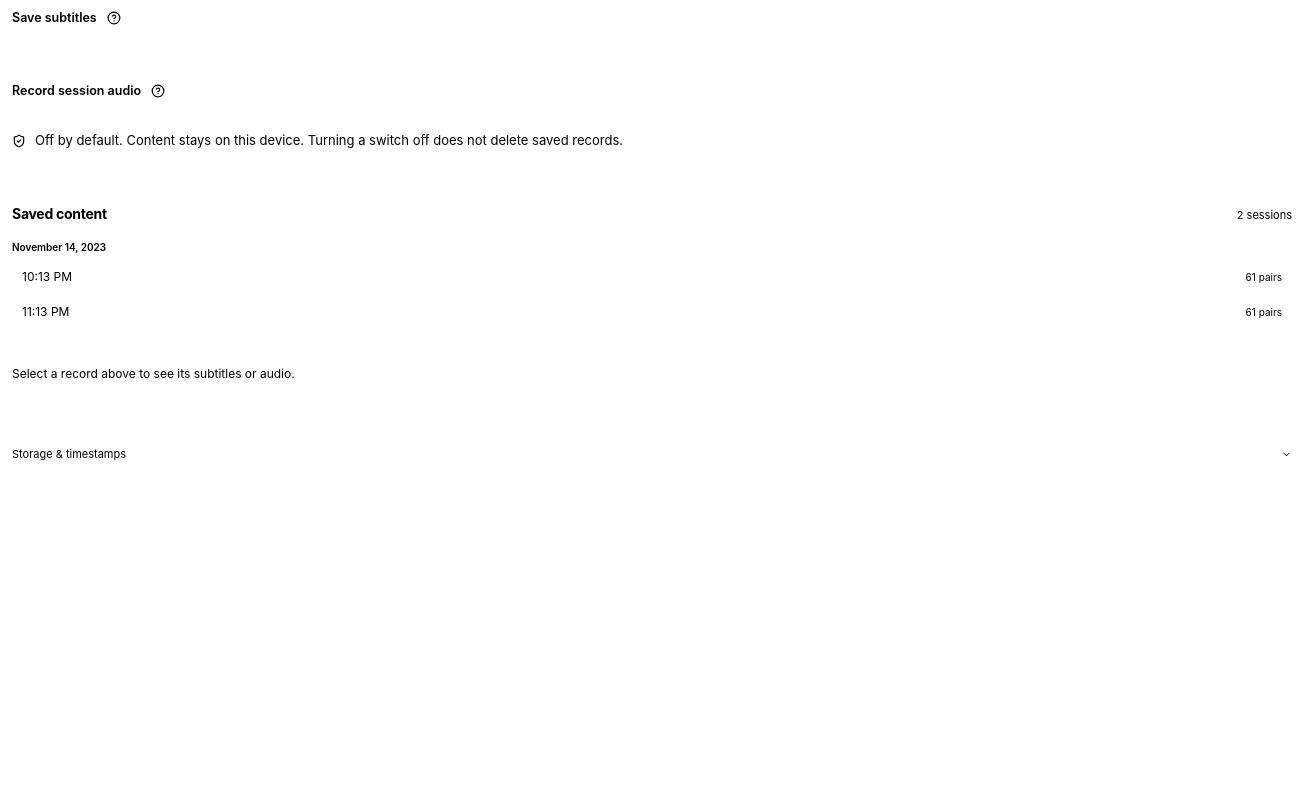
Test: history operation state › keeps a pending transcript read valid during canceled export
Click the button with class "session-history__item" showing "11:13 PM 61 pairs": click(46, 312) 12,294 -> 1292,330
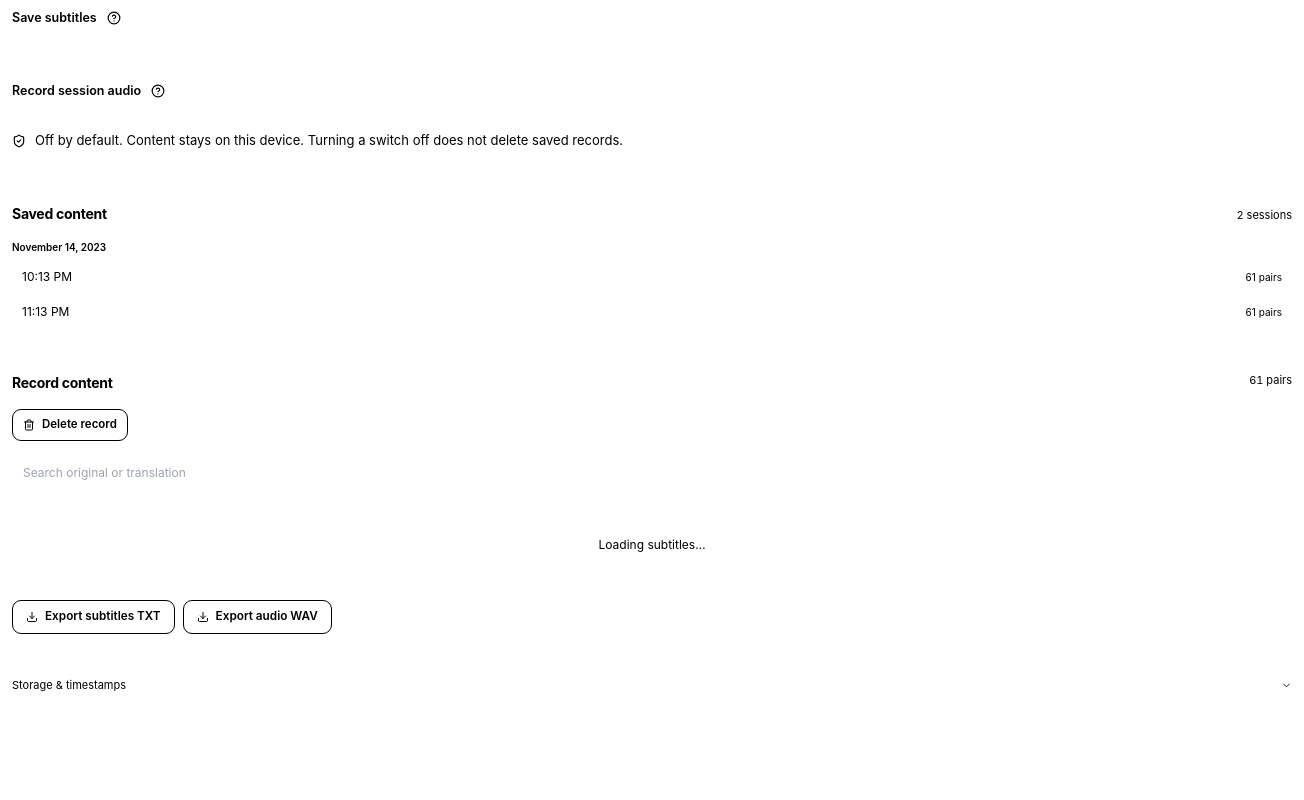
Click the button "Export subtitles TXT": click(93, 617) 12,600 -> 175,634
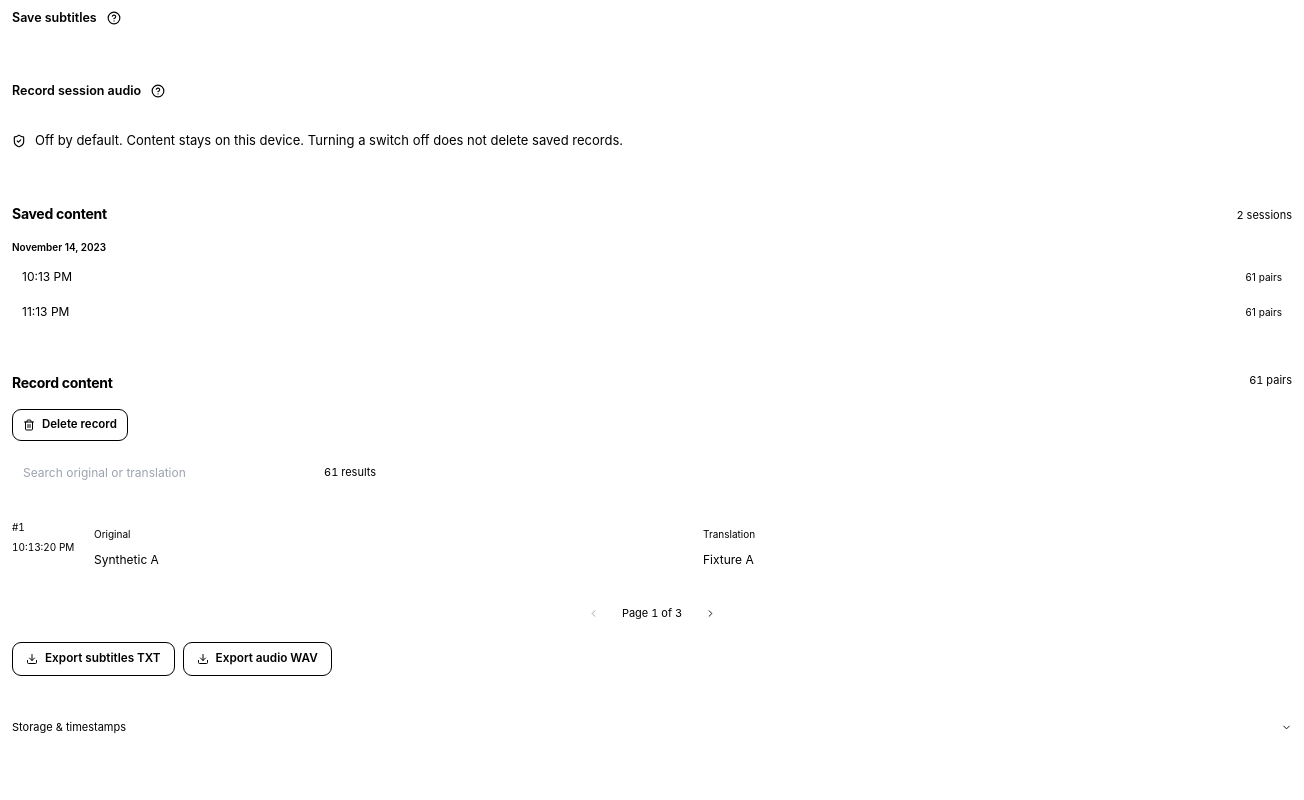
Expected: the text "Synthetic A" is shown, 94,552 -> 159,566
